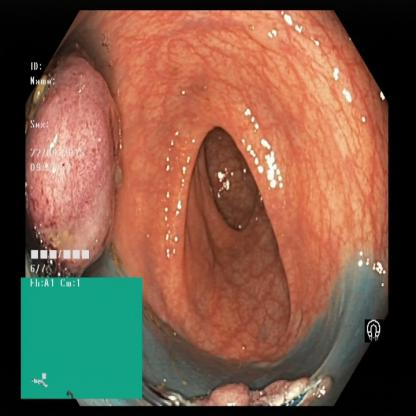Labels: (17, 273, 146, 397), (30, 57, 93, 280), (354, 302, 385, 350)
Polyps: (30, 76, 121, 262), (205, 379, 333, 405)
